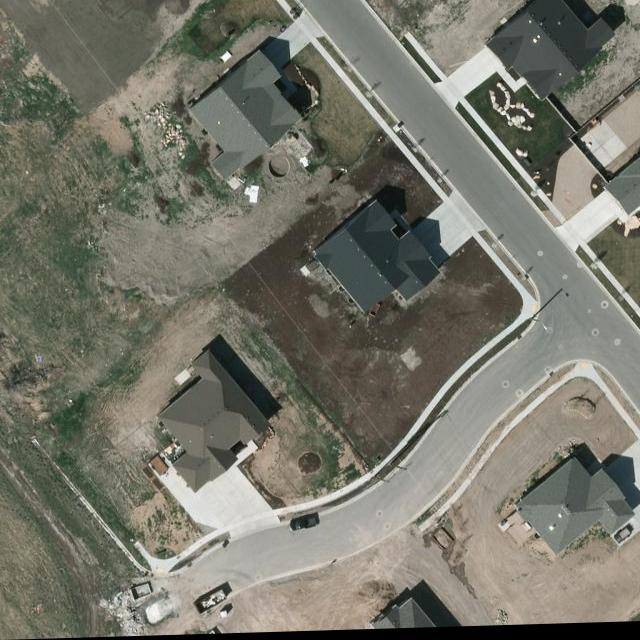vehicle: (289, 516, 320, 535)
